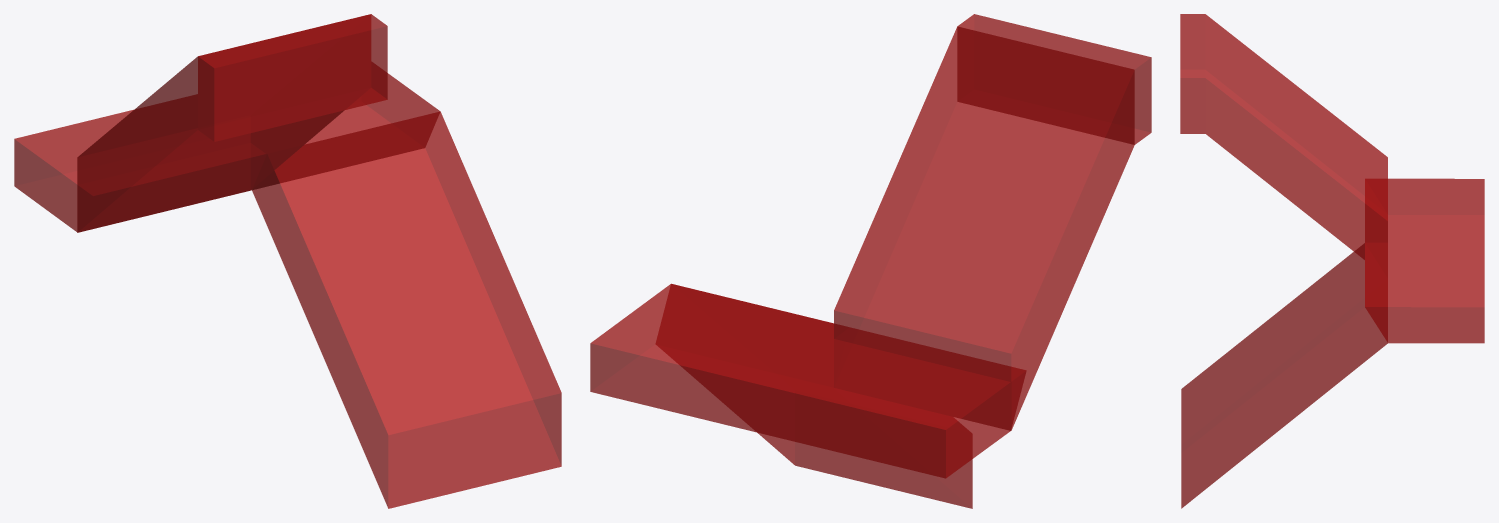
Rendered from SM_Bld_Base_Staris_02_Collision.fbx.
3 renders of one model, left to right at view 1: azimuth 30°, elevation 25°; view 2: azimuth 150°, elevation 25°; view 3: azimuth 270°, elevation 25°, orthographic. The views are drawn at different scales.
Visible parts, largest first — view 1: SM_Bld_Base_Staris_02_Collision; view 2: SM_Bld_Base_Staris_02_Collision; view 3: SM_Bld_Base_Staris_02_Collision.
Boxes of the visible parts, bbox=[...] form: SM_Bld_Base_Staris_02_Collision: bbox=[14, 14, 561, 508]; SM_Bld_Base_Staris_02_Collision: bbox=[590, 14, 1151, 508]; SM_Bld_Base_Staris_02_Collision: bbox=[1180, 14, 1484, 508].
Bounding box in the file's own units: 251 × 333 × 251.
